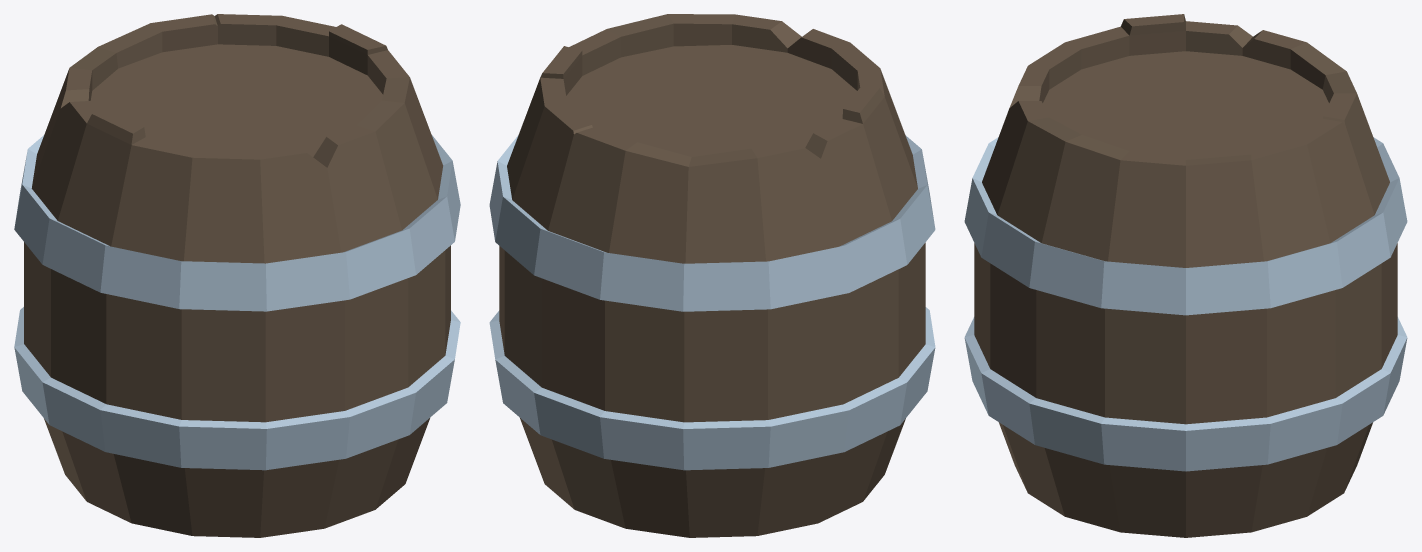
The model's file is Barrel1.fbx.
3 renders of one model, left to right at view 1: azimuth 30°, elevation 25°; view 2: azimuth 150°, elevation 25°; view 3: azimuth 270°, elevation 25°, orthographic.
Parts seen in each view (by area): view 1: Cylinder; view 2: Cylinder; view 3: Cylinder.
Boxes of the visible parts, box(x1,y1,x2,y2) form: Cylinder: box(14, 14, 460, 537); Cylinder: box(489, 14, 935, 537); Cylinder: box(964, 14, 1407, 537).
Bounding box in the file's own units: 129 × 123 × 129.
